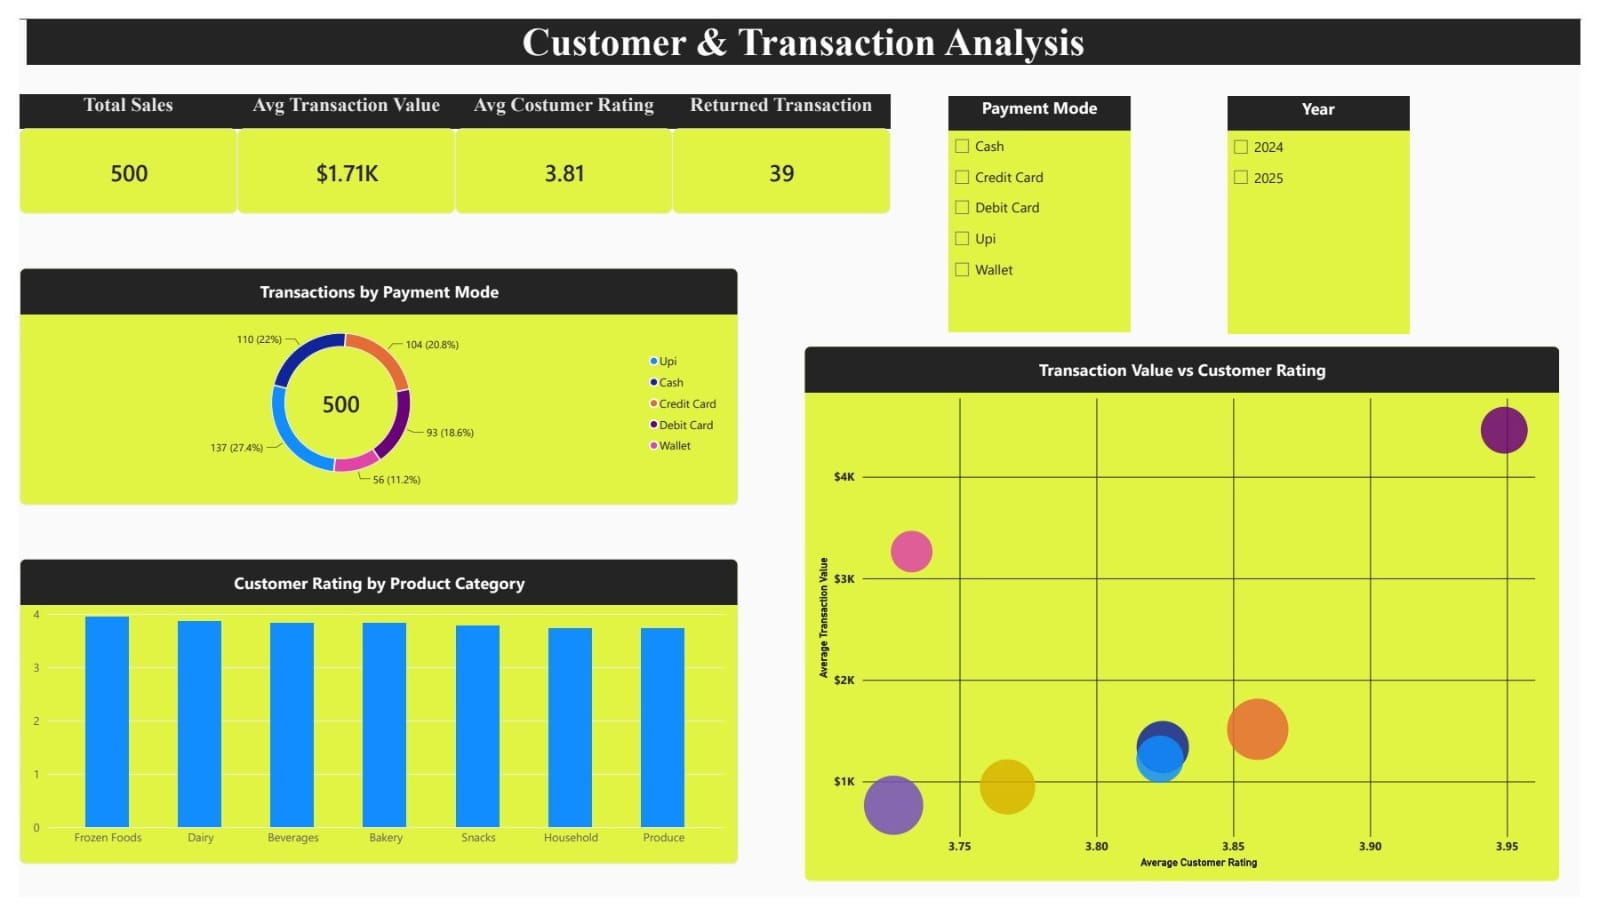

This screenshot's page, from the dashboard's own definition file:
{"tool":"powerbi","page":{"name":"Customer & Transaction Analysis","canvas":[1920,1080],"ordinal":4},"visuals":[{"type":"textbox","box":[9.2,0,1911.3,55],"z":0},{"type":"cardVisual","title":"Total Sales","fields":{"Data":["Measures Table.Total Sales"]},"box":[0,91.7,267.8,148.6],"z":1000},{"type":"cardVisual","title":"Avg Transaction Value","fields":{"Data":["Measures Table.Average Transaction Value"]},"box":[267.8,91.7,267.8,148.6],"z":2000},{"type":"cardVisual","title":"Avg Costumer Rating","fields":{"Data":["Measures Table.Average Customer Rating"]},"box":[535.6,91.7,267.8,148.6],"z":3000},{"type":"cardVisual","title":"Returned Transaction","fields":{"Data":["Measures Table.Returned Transactions"]},"box":[803.4,91.7,267.8,148.6],"z":4000},{"type":"donutChart","title":"Transactions by Payment Mode","fields":{"Category":["Payment.Payment_Mode"],"Y":["Measures Table.Total Transactions"]},"box":[0,306.3,884.1,291.6],"z":5000},{"type":"columnChart","title":"Customer Rating by Product Category","fields":{"Category":["Product.Product_Category"],"Y":["Measures Table.Average Customer Rating"]},"box":[0,664,884.1,376],"z":6000},{"type":"scatterChart","title":"Transaction Value vs Customer Rating","fields":{"Series":["Product.Product_Category"],"Size":["Measures Table.Total Transactions"],"X":["Measures Table.Average Customer Rating"],"Y":["Measures Table.Average Transaction Value"]},"box":[964.8,401.7,930,660.3],"z":7000},{"type":"slicer","title":"Year","fields":{"Values":["Date.Year"]},"box":[1485.7,95.4,223.8,291.6],"z":8000},{"type":"slicer","title":"Payment Mode ","fields":{"Values":["Payment.Payment_Mode"]},"box":[1142.7,93.5,223.8,291.6],"z":9000}]}

Visuals, with their boxes in screenshot pixels (x1, y1, x2, y2), scaled from the page's 1920x1080 canvas onto the 1600x916 screenshot:
textbox: pyautogui.locateOnScreen(8, 0, 1599, 47)
"Total Sales" cardVisual: pyautogui.locateOnScreen(0, 78, 223, 204)
"Avg Transaction Value" cardVisual: pyautogui.locateOnScreen(223, 78, 446, 204)
"Avg Costumer Rating" cardVisual: pyautogui.locateOnScreen(446, 78, 670, 204)
"Returned Transaction" cardVisual: pyautogui.locateOnScreen(670, 78, 893, 204)
"Transactions by Payment Mode" donutChart: pyautogui.locateOnScreen(0, 260, 737, 507)
"Customer Rating by Product Category" columnChart: pyautogui.locateOnScreen(0, 563, 737, 882)
"Transaction Value vs Customer Rating" scatterChart: pyautogui.locateOnScreen(804, 341, 1579, 901)
"Year" slicer: pyautogui.locateOnScreen(1238, 81, 1425, 328)
"Payment Mode " slicer: pyautogui.locateOnScreen(952, 79, 1139, 327)
